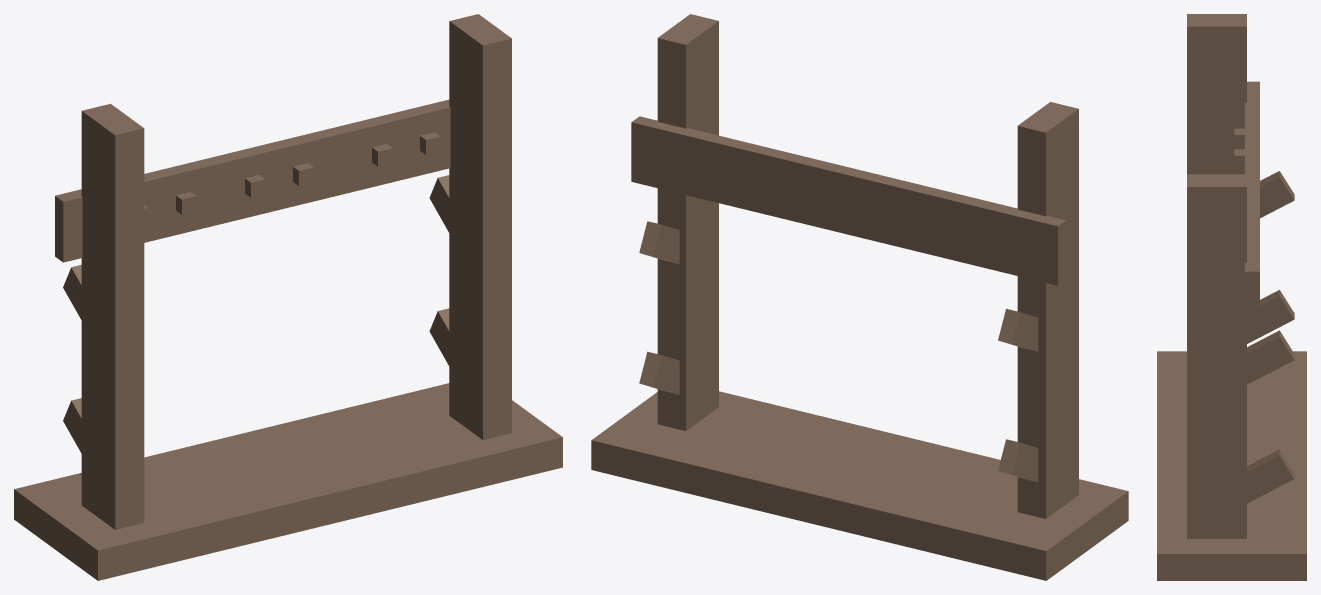
The model's file is Model_Weapon_Stand.fbx.
The picture shows the model from 3 angles, left to right: view 1: azimuth 30°, elevation 25°; view 2: azimuth 150°, elevation 25°; view 3: azimuth 270°, elevation 25°; orthographic projection. The views are drawn at different scales.
Visible parts, largest first — view 1: Cube.010; view 2: Cube.010; view 3: Cube.010.
Part boxes in pixels (x1=…): Cube.010: x1=14, y1=14, x2=562, y2=580; Cube.010: x1=591, y1=14, x2=1128, y2=580; Cube.010: x1=1157, y1=14, x2=1306, y2=580.
Bounding box in the file's own units: 160 × 140 × 50.
